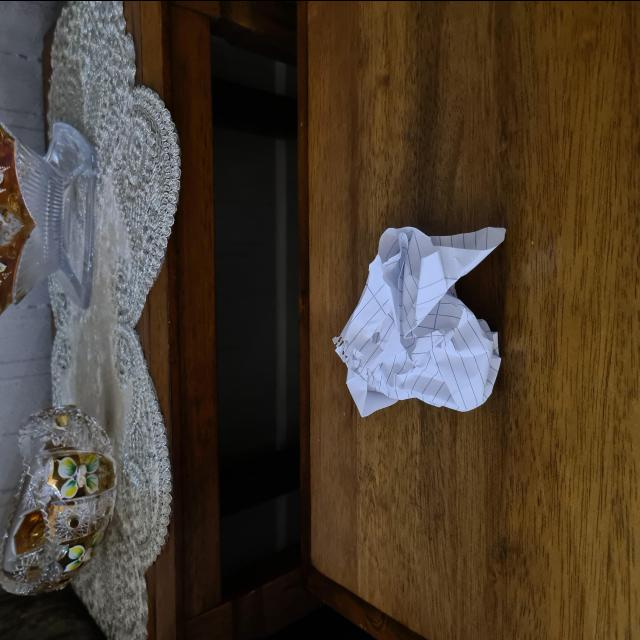kertas: (333, 223, 505, 421)
